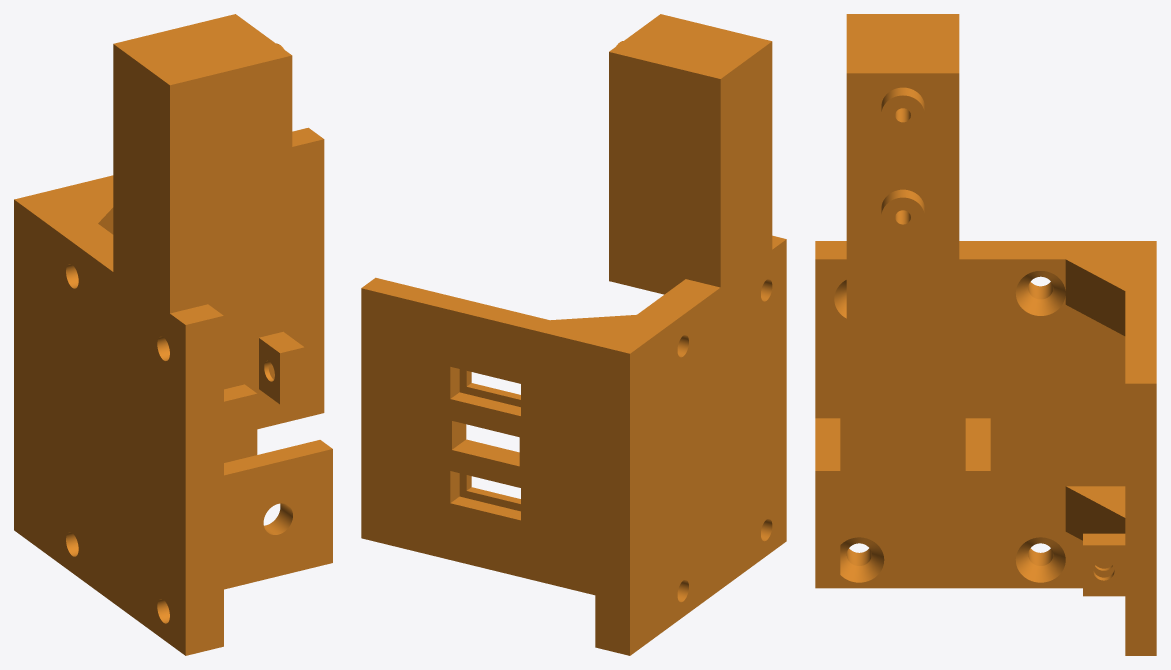
File: eixo_bloco_tensor.glb
3 renders of one model, left to right at view 1: azimuth 30°, elevation 25°; view 2: azimuth 150°, elevation 25°; view 3: azimuth 270°, elevation 25°, orthographic. The views are drawn at different scales.
Parts seen in each view (by area): view 1: eixo_bloco_tensor; view 2: eixo_bloco_tensor; view 3: eixo_bloco_tensor.
Part boxes in pixels (bbox=[...]): eixo_bloco_tensor: bbox=[14, 14, 332, 655]; eixo_bloco_tensor: bbox=[361, 14, 786, 655]; eixo_bloco_tensor: bbox=[815, 14, 1156, 655].
Size of the model in its own units: 54 by 98 by 54.5.
